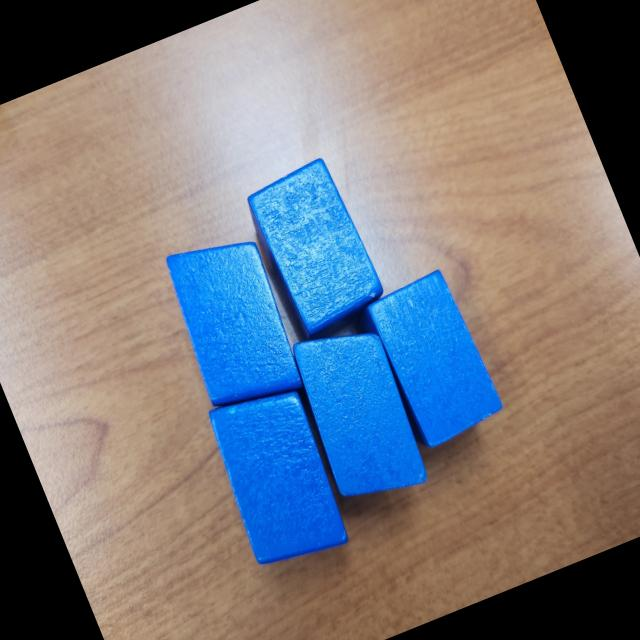blue: (198, 375, 362, 579), (276, 312, 438, 516), (154, 223, 314, 425), (236, 152, 392, 347), (358, 265, 508, 456)
